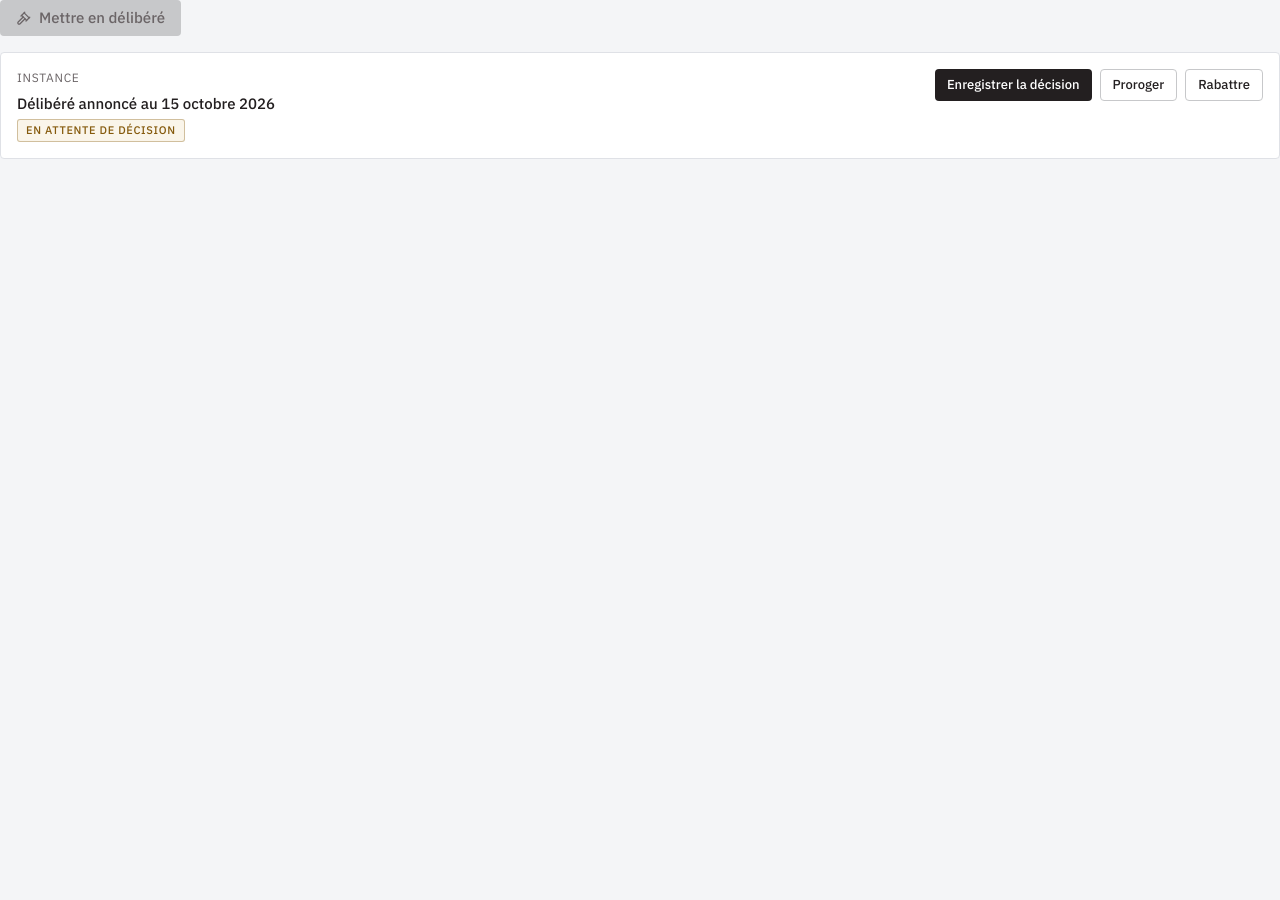
Test: OngletDeliberes - actions sur un délibéré en attente › affiche le refus de rabattre
The image size is (1280, 900).
Click the button with aria-label "Rabattre le délibéré annoncé au 15 octobre 2026" at (1224, 85), box [1185, 69, 1263, 101]
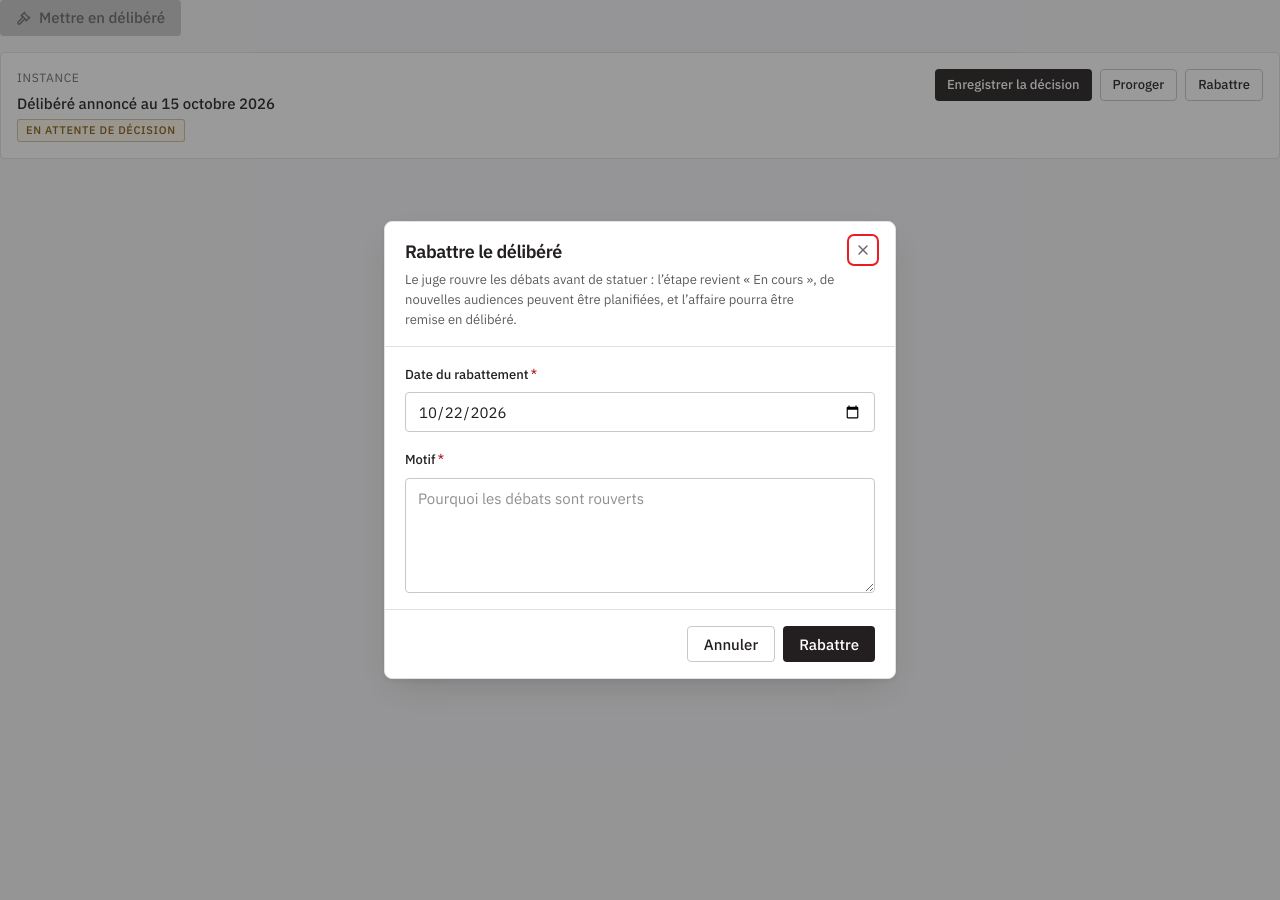
Type "Motif" into the text box labelled "Motif" at (640, 535), box [405, 478, 875, 593]
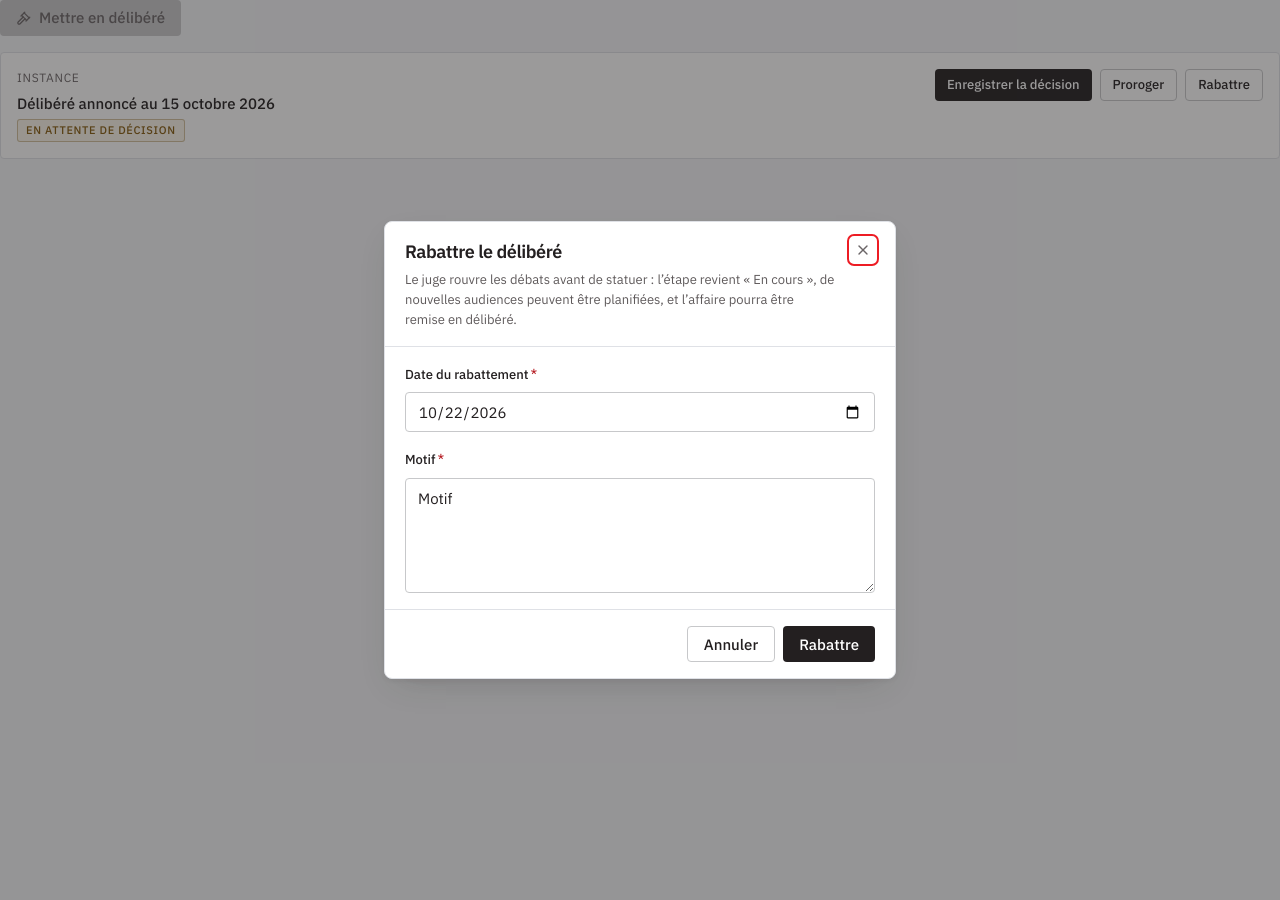
Click the button "Rabattre" at (829, 644), box [783, 626, 875, 662]
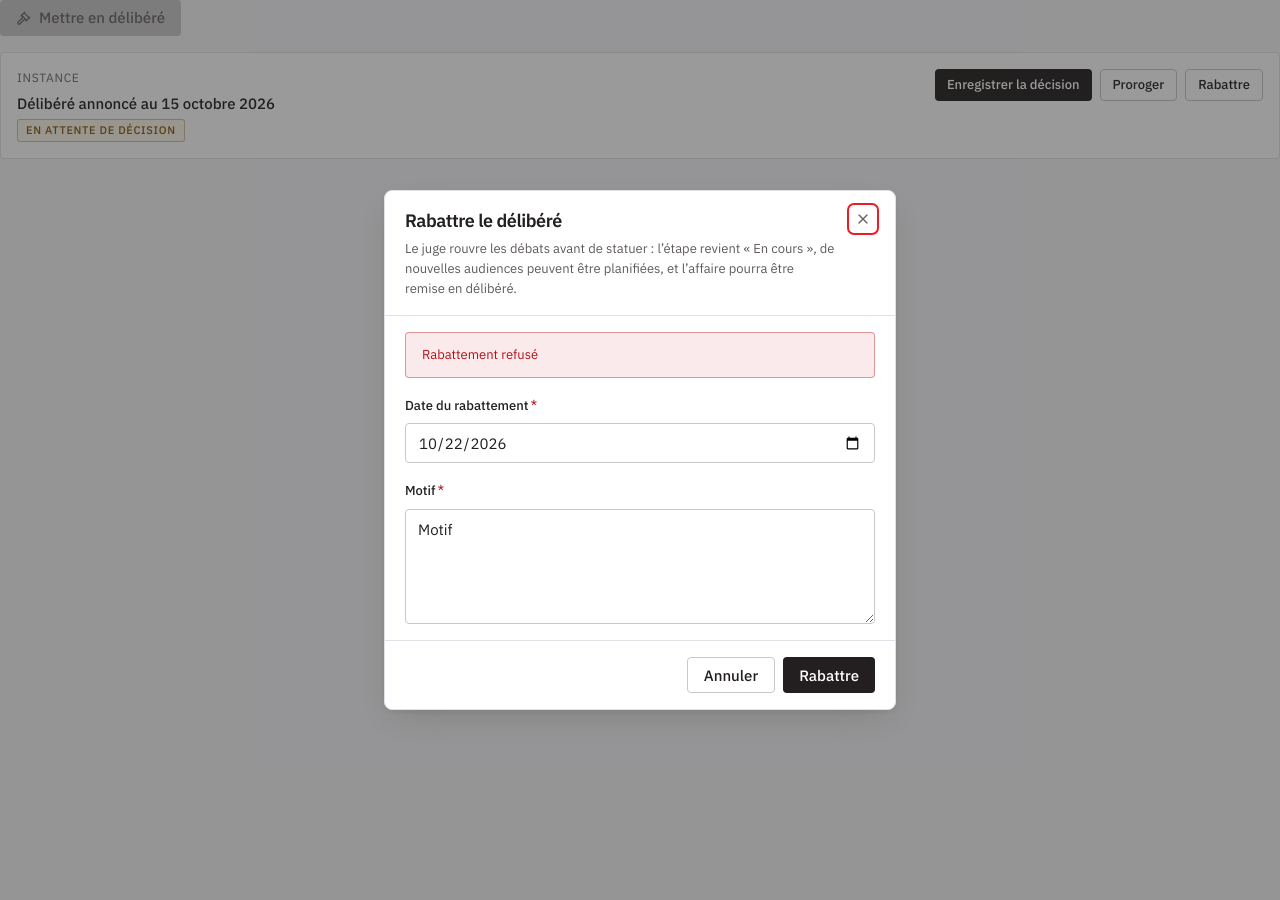
Check: the text "Rabattement refusé" is shown, box [405, 332, 875, 378]
